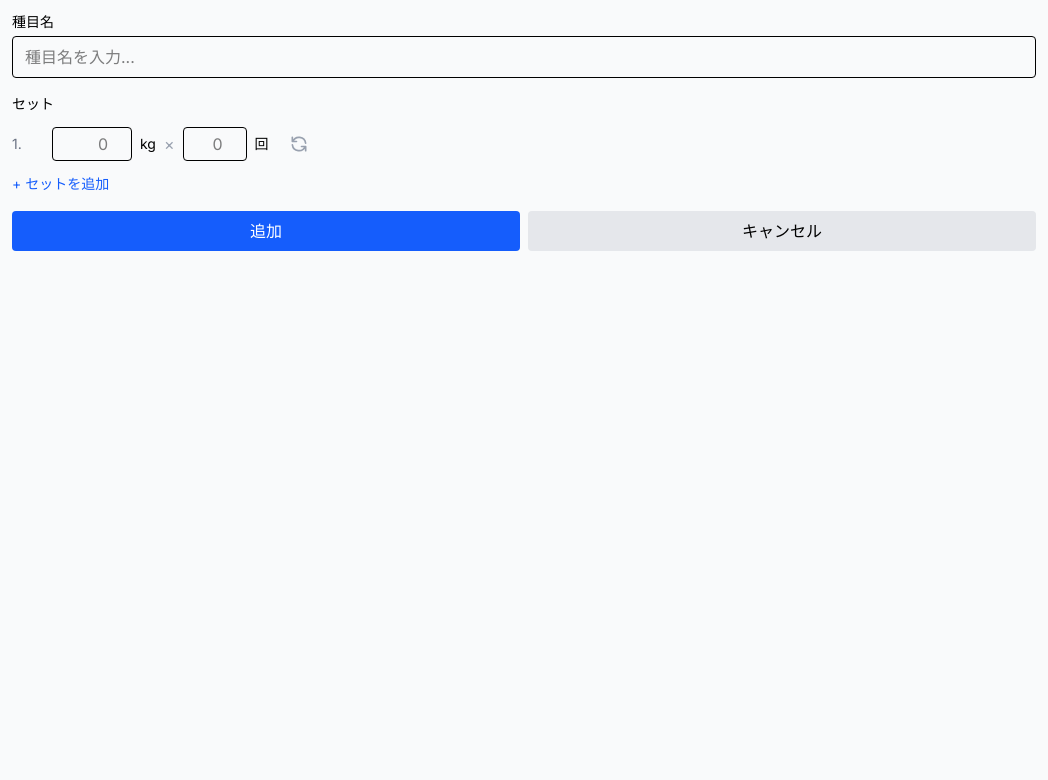
ExerciseForm › バリデーション › 自重トレーニングで回数が0以下の場合、アラートを表示する
Type "チンニング" into the field with placeholder "種目名を入力..." at x=524, y=57, box [12,36,1036,78]
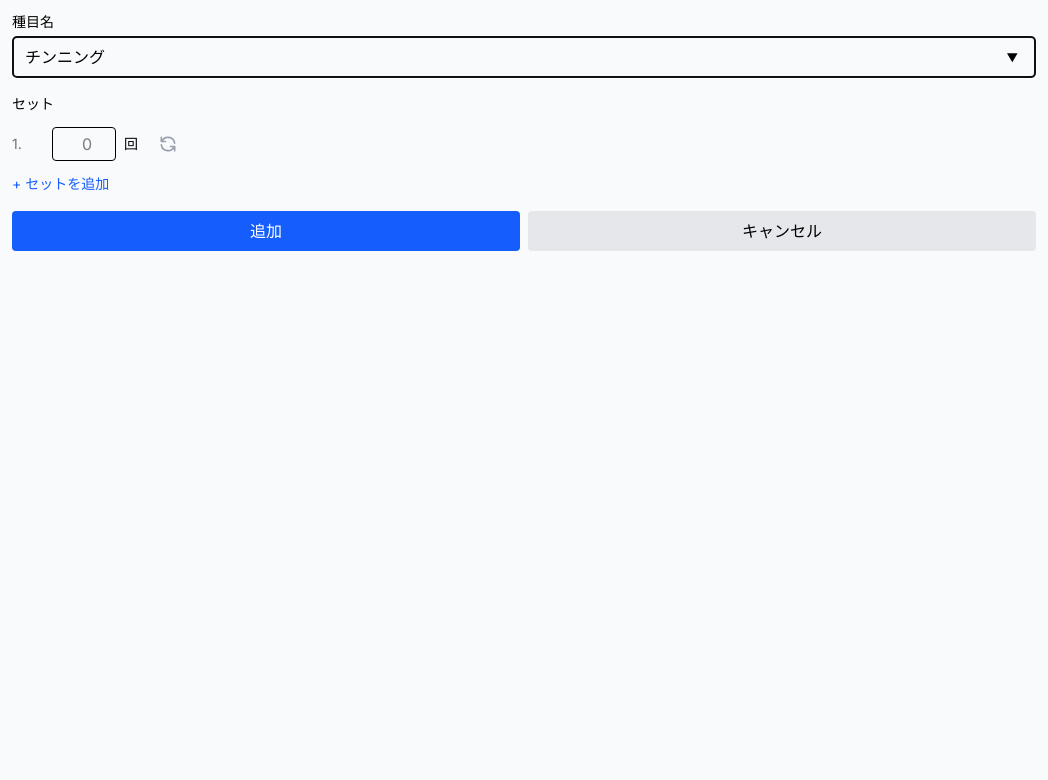
Check: the number of number fields is 1, box [52,127,116,161]
Click the button "追加" at x=266, y=231, box [12,211,520,251]
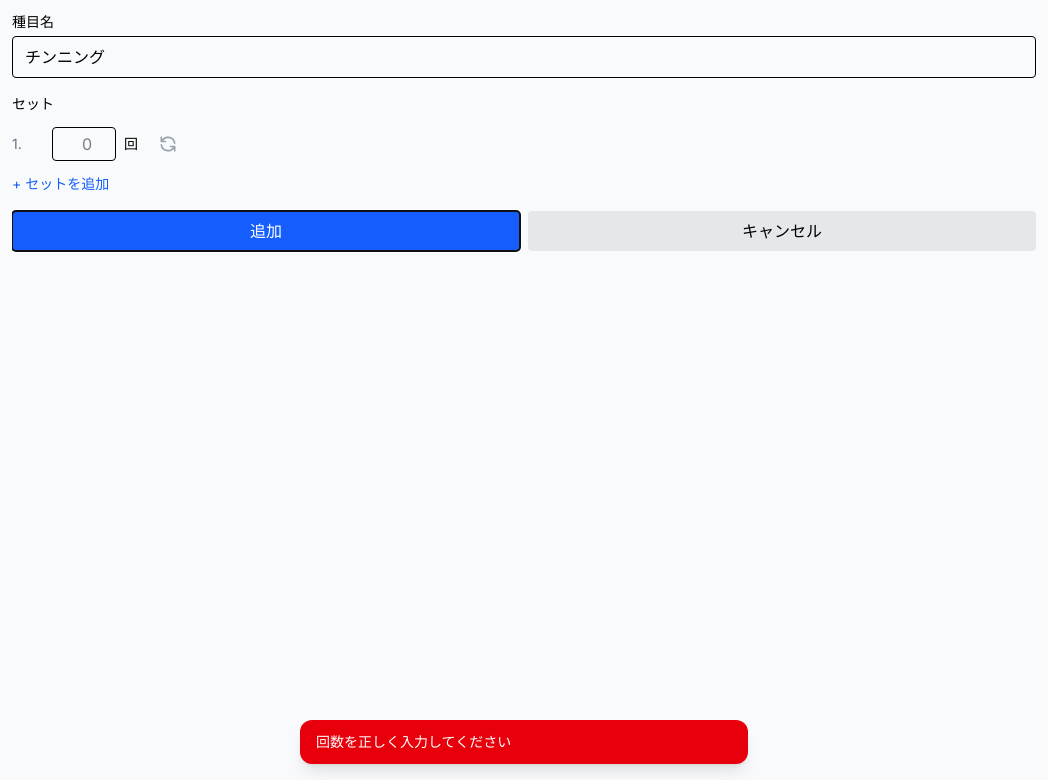
Check: the text "回数を正しく入力してください" is shown, box [300,720,748,764]
